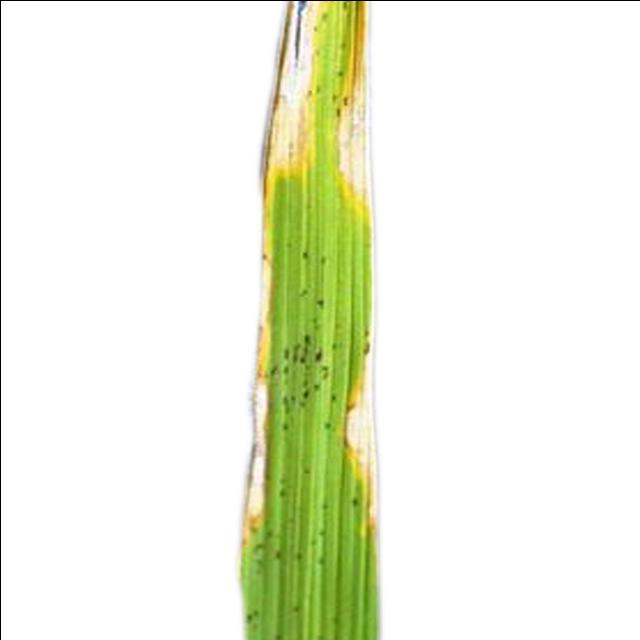Leaf scald: (124, 0, 489, 640)
